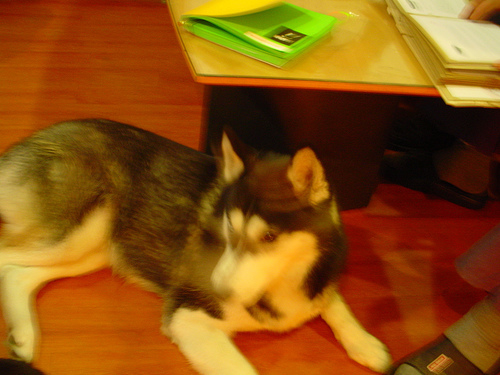dog: (1, 118, 388, 373)
